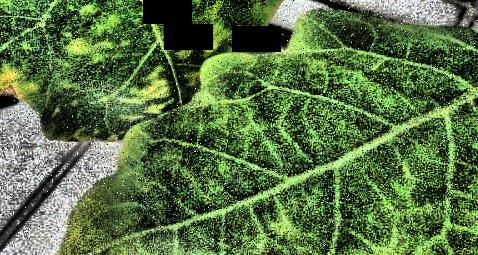Non-critical Stress: (1, 1, 478, 255)
